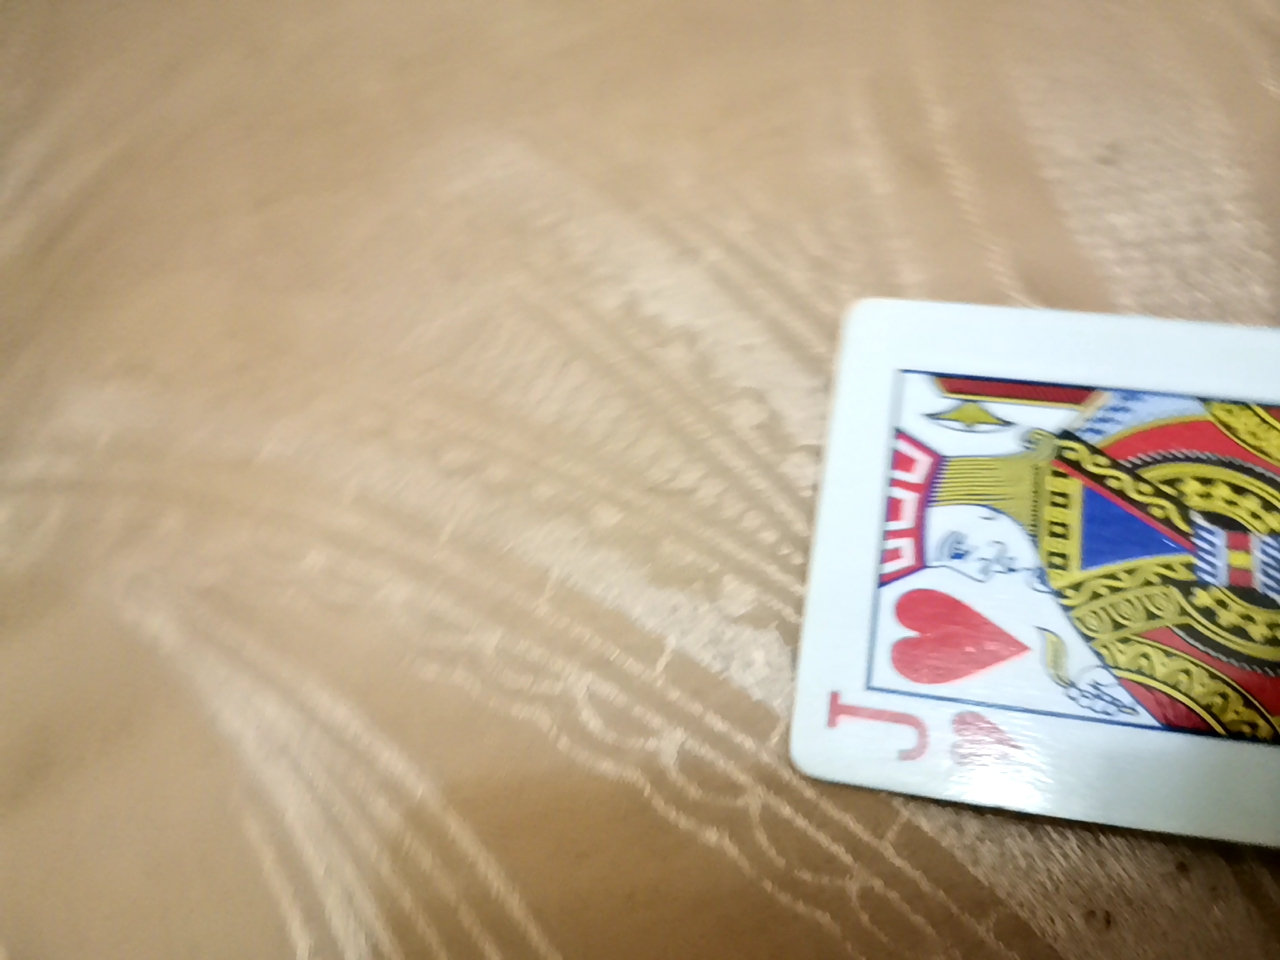hx j: (755, 241, 1272, 940)
